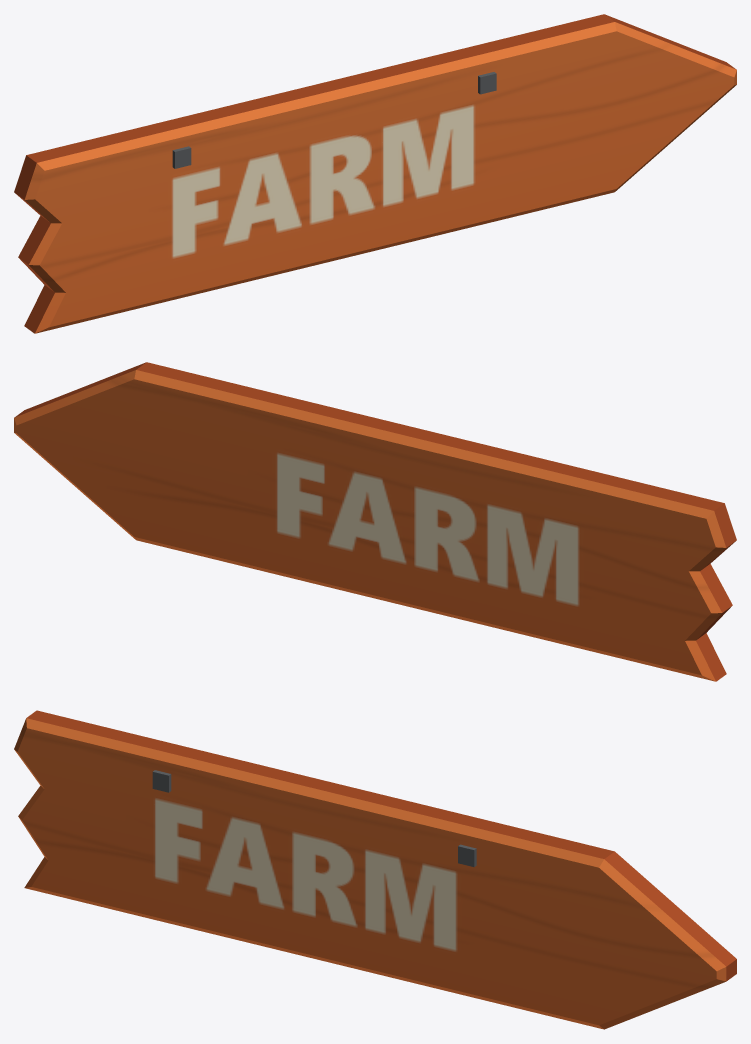
File: FMS_Deco_Sign_Arrow.fbx
3 renders of one model, top to bottom at view 1: azimuth 30°, elevation 25°; view 2: azimuth 150°, elevation 25°; view 3: azimuth 330°, elevation 25°, orthographic.
Parts seen in each view (by area): view 1: item_decor_sign_arrow; view 2: item_decor_sign_arrow; view 3: item_decor_sign_arrow.
Boxes of the visible parts, x1=… form: item_decor_sign_arrow: x1=14, y1=14, x2=736, y2=333; item_decor_sign_arrow: x1=14, y1=362, x2=736, y2=681; item_decor_sign_arrow: x1=14, y1=710, x2=736, y2=1029.
Bounding box in the file's own units: 0.7 × 0.16 × 0.034.
